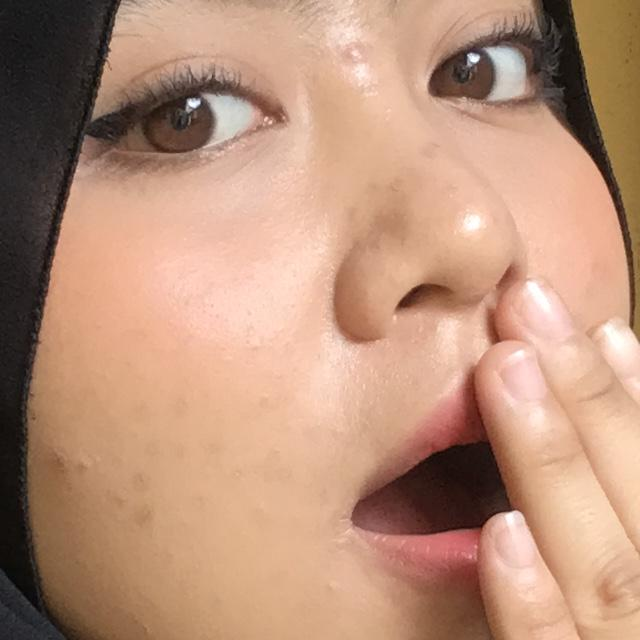ngantuk: (390, 246, 640, 640)
